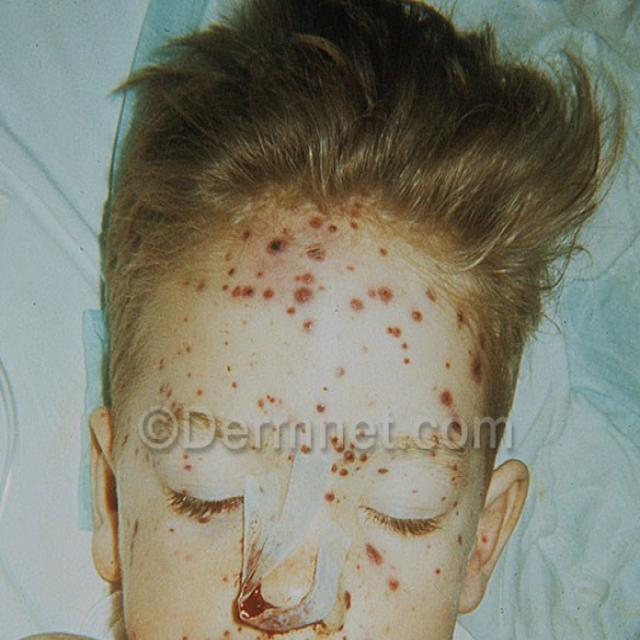Viral Infections: (186, 237, 448, 416), (155, 483, 305, 640), (333, 532, 447, 640), (124, 327, 153, 432)
